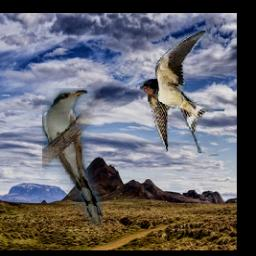Cuckoo: (43, 89, 104, 229)
Swallow: (140, 29, 224, 153)
